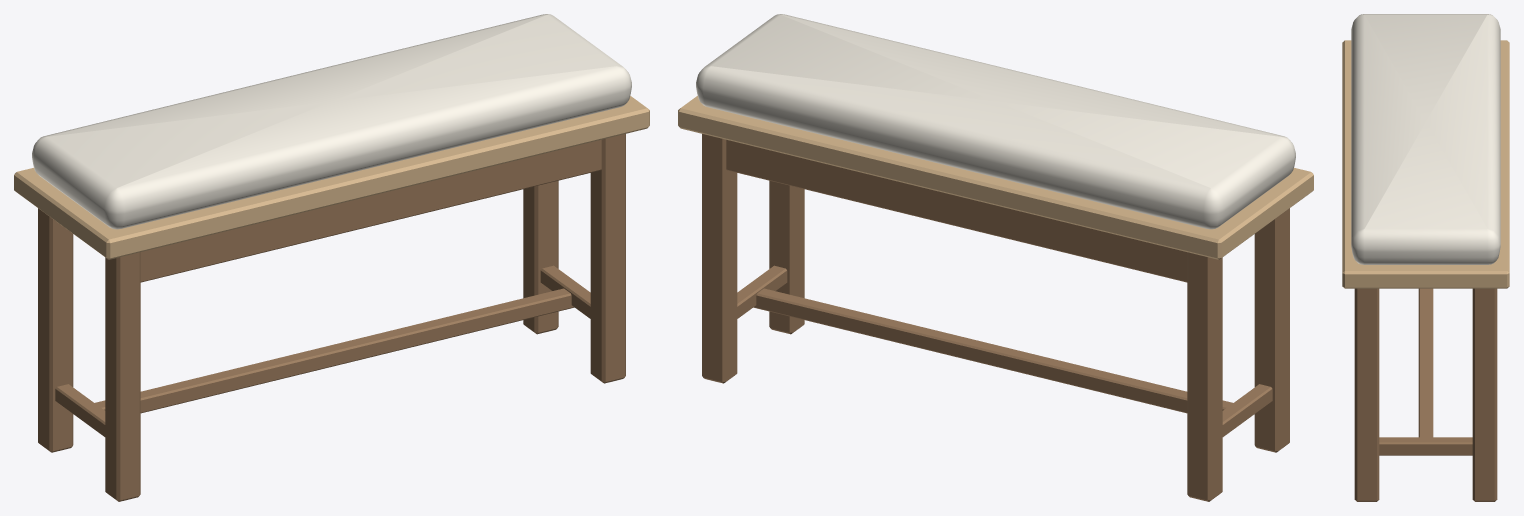
File: wedding-and-chapel-kit-organ-bench-a86bf582__39389.glb
3 renders of one model, left to right at view 1: azimuth 30°, elevation 25°; view 2: azimuth 150°, elevation 25°; view 3: azimuth 270°, elevation 25°, orthographic. The views are drawn at different scales.
Parts seen in each view (by area): view 1: organ-bench; view 2: organ-bench; view 3: organ-bench.
Part boxes in pixels (left/top/right/bottom): organ-bench: left=14, top=14, right=649, bottom=501; organ-bench: left=678, top=14, right=1313, bottom=501; organ-bench: left=1342, top=14, right=1509, bottom=501.
Size of the model in its own units: 1.12 by 0.6109 by 0.3401.
